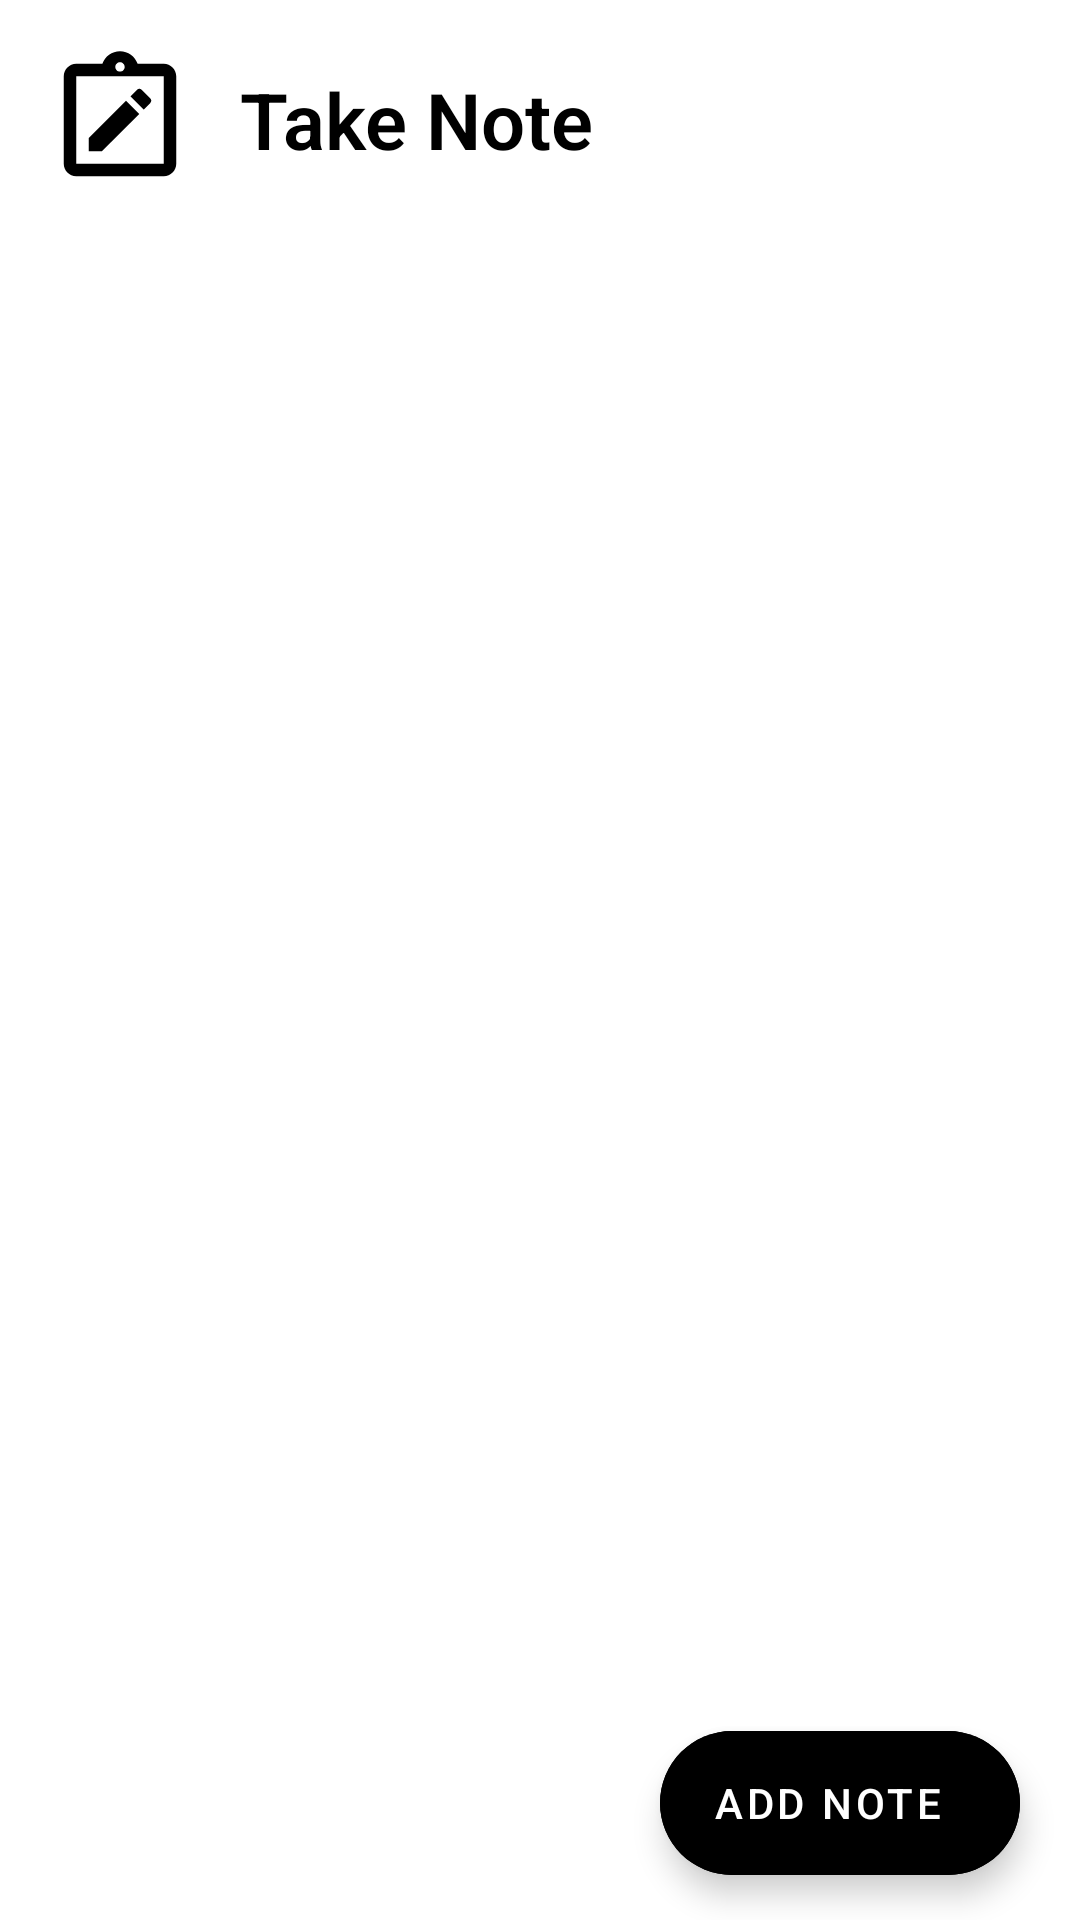

Screen size 1080 x 1920. Icon name, then its center in pixels as [x,y]:
notes: [120,114]
